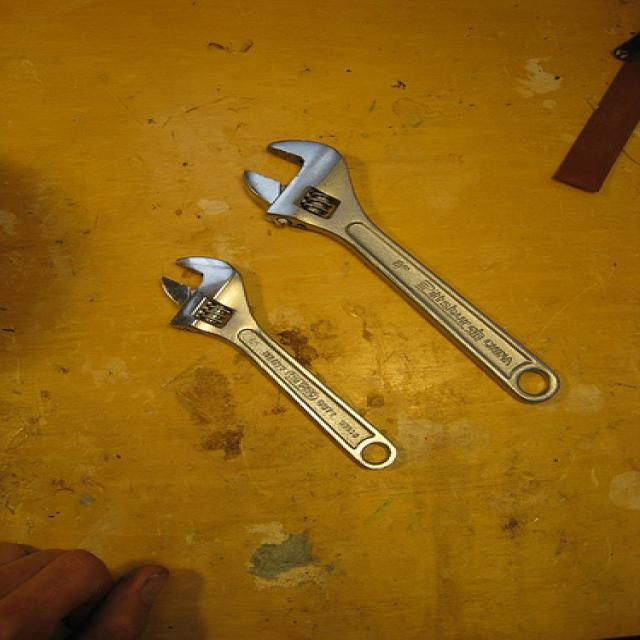wrench: (240, 114, 589, 387), (144, 239, 403, 498)
